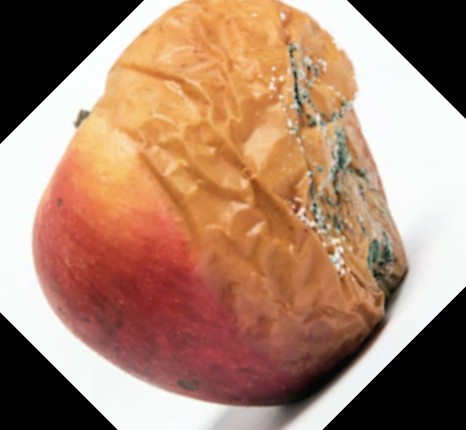rotten_apple: (34, 1, 408, 407)
